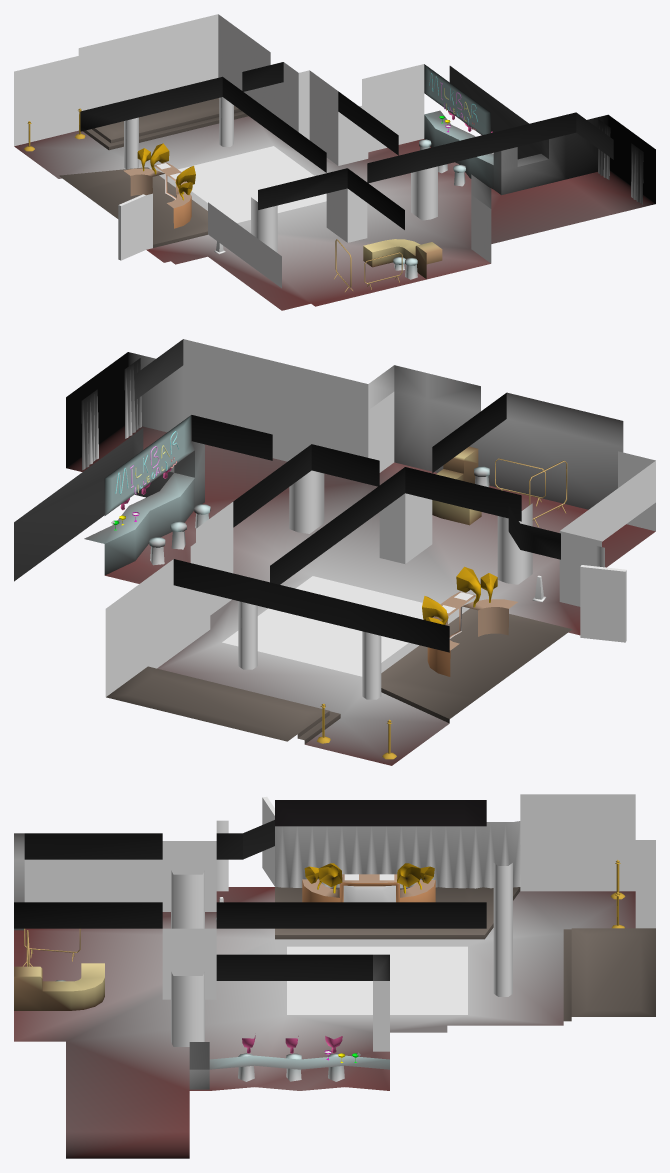
Rendered from MainBarArea.glb.
3 views of the same model, one above another, from view 1: azimuth 30°, elevation 25°; view 2: azimuth 150°, elevation 25°; view 3: azimuth 270°, elevation 25° (orthographic). The views are drawn at different scales.
Parts seen in each view (by area): view 1: ROOM.016, ROOM, ROOM.020, ROOM.007, ROOM.018, ROOM.019, ROOM.008, ROOM.012, ROOM.017, ROOM.013, ROOM.026, ROOM.022 (+11 smaller); view 2: ROOM.016, ROOM, ROOM.014, ROOM.015, ROOM.020, ROOM.018, ROOM.012, ROOM.017, ROOM.013, ROOM.010, ROOM.026, ROOM.022 (+10 smaller); view 3: ROOM.016, ROOM, STAGECURTAIN, ROOM.009, ROOM.013, ROOM.017, ROOM.012, Cube, ROOM.022, ROOM.020, DJTABLE, ROOM.021 (+9 smaller).
Part boxes in pixels (bbox=[...]): ROOM.016: bbox=[14, 116, 655, 310]; ROOM: bbox=[80, 62, 613, 229]; ROOM.020: bbox=[424, 64, 608, 195]; ROOM.007: bbox=[78, 14, 218, 109]; ROOM.018: bbox=[218, 14, 338, 165]; ROOM.019: bbox=[338, 64, 424, 165]; ROOM.008: bbox=[14, 54, 86, 146]; ROOM.012: bbox=[59, 167, 207, 247]; ROOM.017: bbox=[83, 98, 248, 150]; ROOM.013: bbox=[208, 202, 281, 288]; ROOM.026: bbox=[608, 115, 655, 203]; ROOM.022: bbox=[326, 188, 367, 242]; ROOM.016: bbox=[66, 425, 655, 765]; ROOM: bbox=[134, 339, 560, 652]; ROOM.014: bbox=[368, 365, 623, 509]; ROOM.015: bbox=[128, 339, 368, 461]; ROOM.020: bbox=[14, 415, 204, 581]; ROOM.018: bbox=[105, 502, 233, 696]; ROOM.012: bbox=[381, 608, 572, 723]; ROOM.017: bbox=[106, 666, 340, 744]; ROOM.013: bbox=[560, 451, 655, 541]; ROOM.010: bbox=[580, 565, 626, 642]; ROOM.026: bbox=[66, 352, 127, 467]; ROOM.022: bbox=[379, 493, 432, 563]; ROOM.016: bbox=[14, 887, 635, 1158]; ROOM: bbox=[14, 800, 486, 980]; STAGECURTAIN: bbox=[275, 821, 520, 888]; ROOM.009: bbox=[520, 794, 635, 891]; ROOM.013: bbox=[24, 841, 216, 911]; ROOM.017: bbox=[563, 928, 655, 1021]; ROOM.012: bbox=[275, 887, 520, 939]; Cube: bbox=[14, 963, 104, 1010]; ROOM.022: bbox=[162, 928, 216, 999]; ROOM.020: bbox=[189, 1042, 389, 1089]; DJTABLE: bbox=[302, 874, 435, 902]; ROOM.021: bbox=[171, 971, 204, 1046].
Size of the model in its own units: 24.13 by 3.75 by 22.48.
